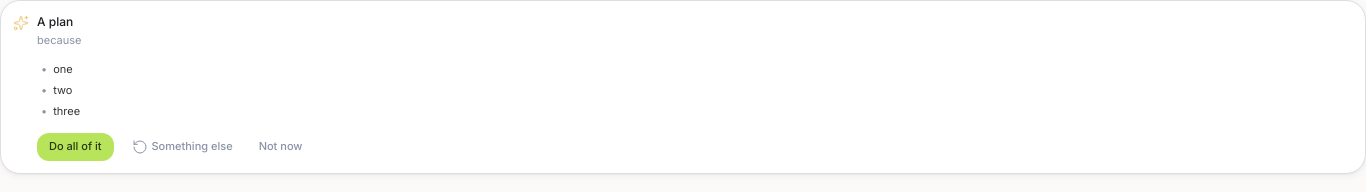
it: dropping individual lines › never promises more than what is ticked
The width and height of the screenshot is (1366, 192).
Click the button with test id "proposal-line" showing "• one" at (44, 69), box [37,60,1353,79]
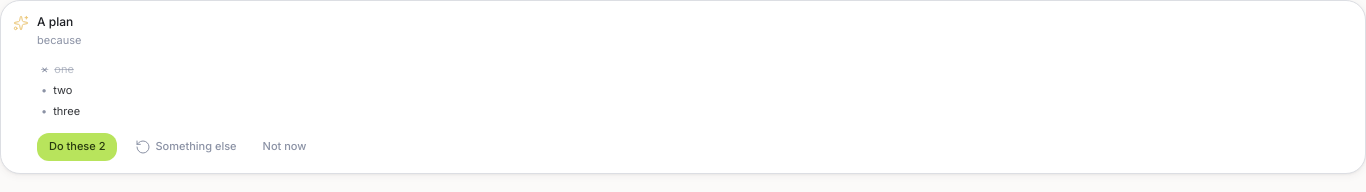
Check: the button with test id "proposal-accept" reads "Do these 2", box [37,133,118,161]
Click the button with test id "proposal-line" showing "• two" at (44, 90), box [37,81,1353,100]
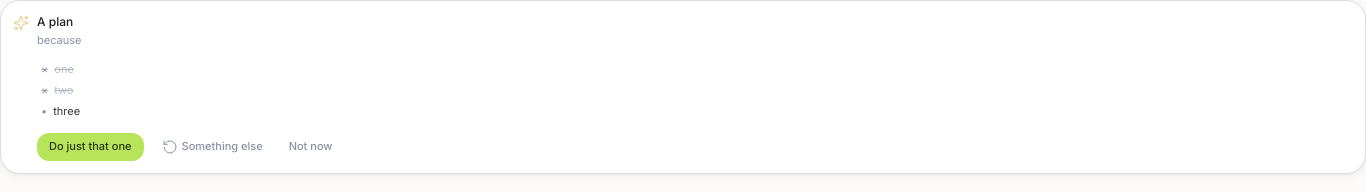
Check: the button with test id "proposal-accept" reads "Do just that one", box [37,133,144,161]
